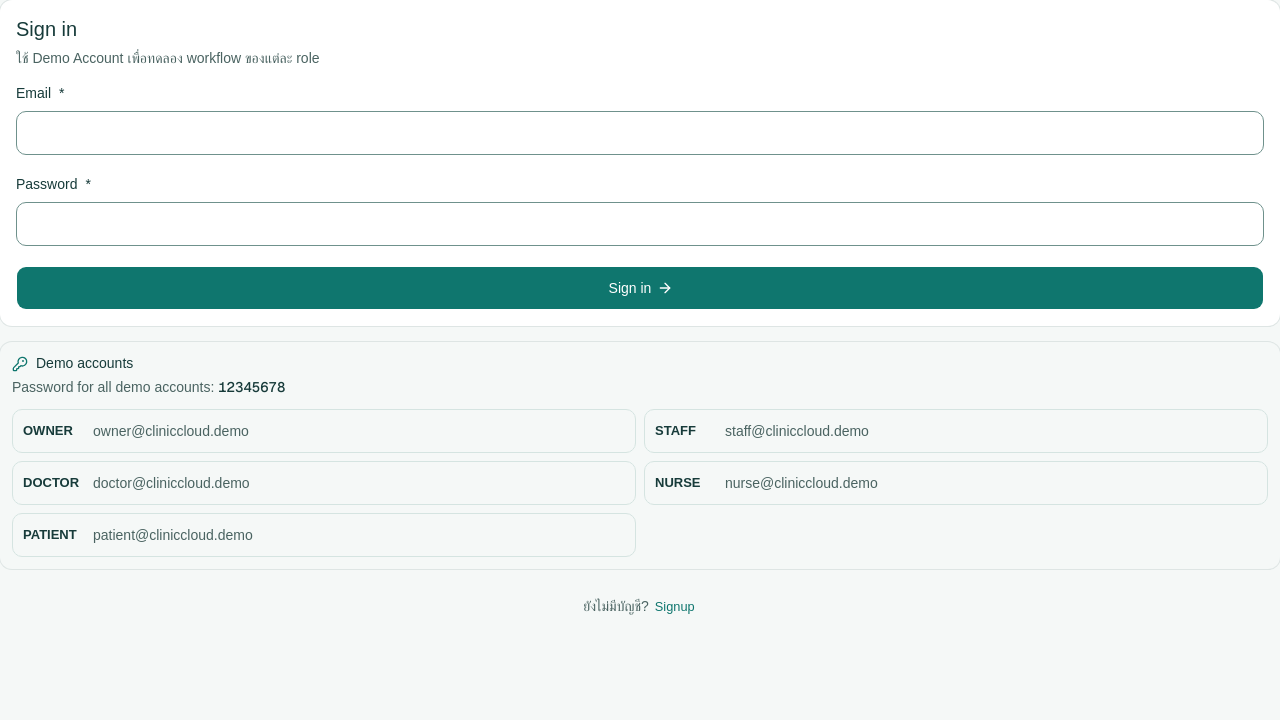
Test: public auth screens › shows the API error and preserves entered credentials
The image size is (1280, 720).
Type "owner@cliniccloud.demo" into the field labelled "Email *" at (640, 133), box [16,111,1264,155]
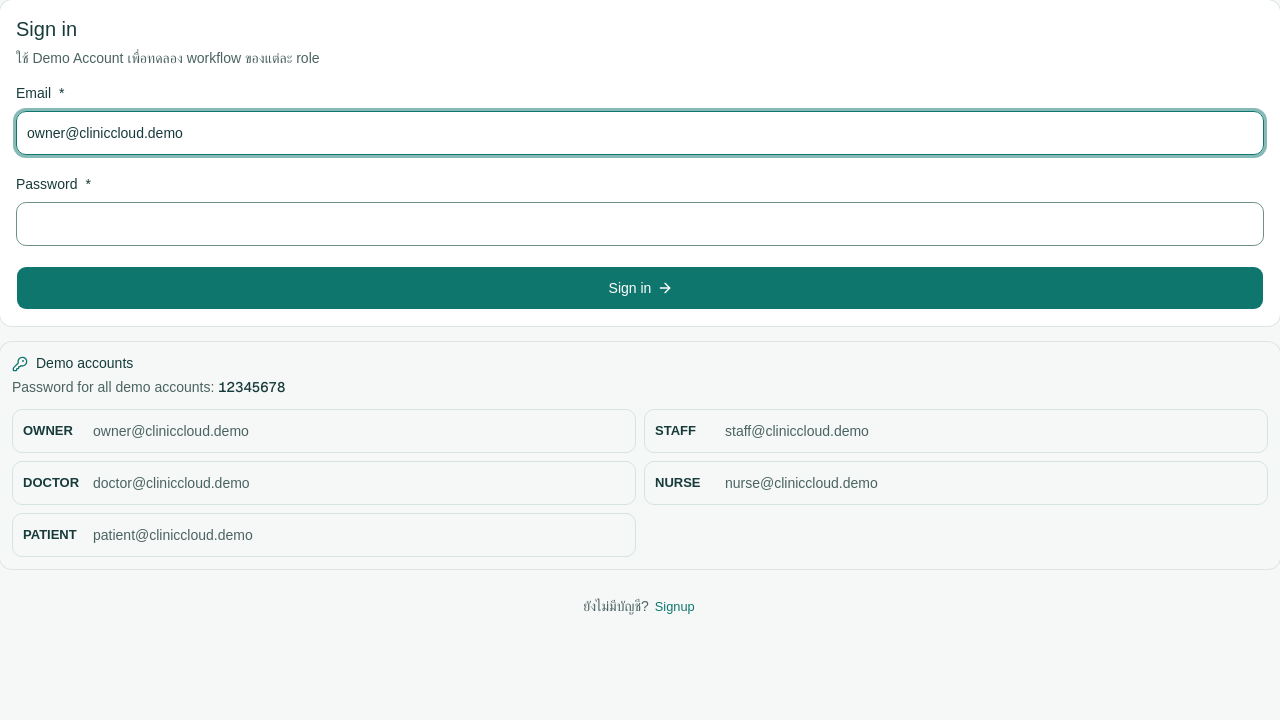
Type "wrong-password" into the password field labelled "Password *" at (640, 224), box [16,202,1264,246]
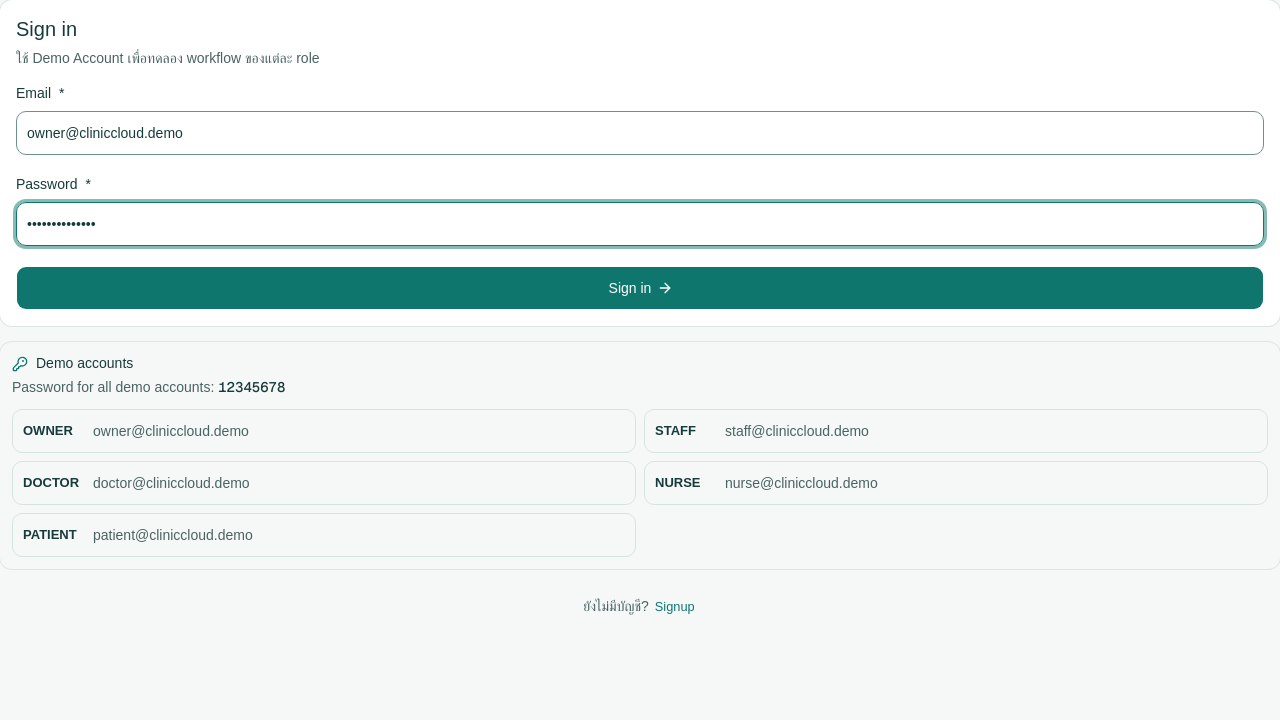
Click the button "Sign in" at (640, 288), box [16,266,1264,310]
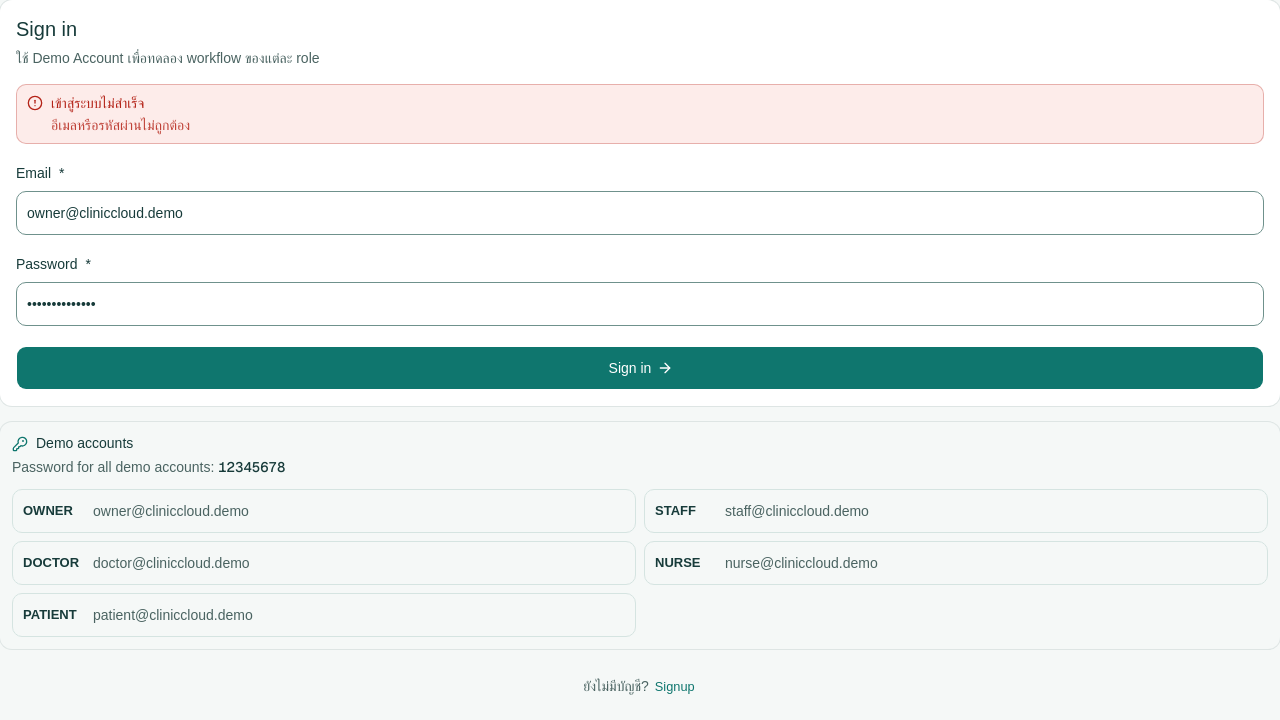
Expected: the text "อีเมลหรือรหัสผ่านไม่ถูกต้อง" is shown, [51,116,190,132]
